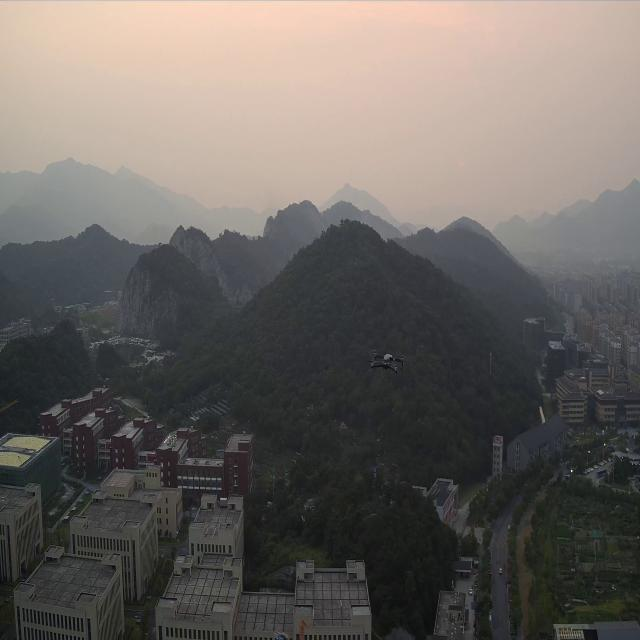UAV: (368, 348, 404, 375)
